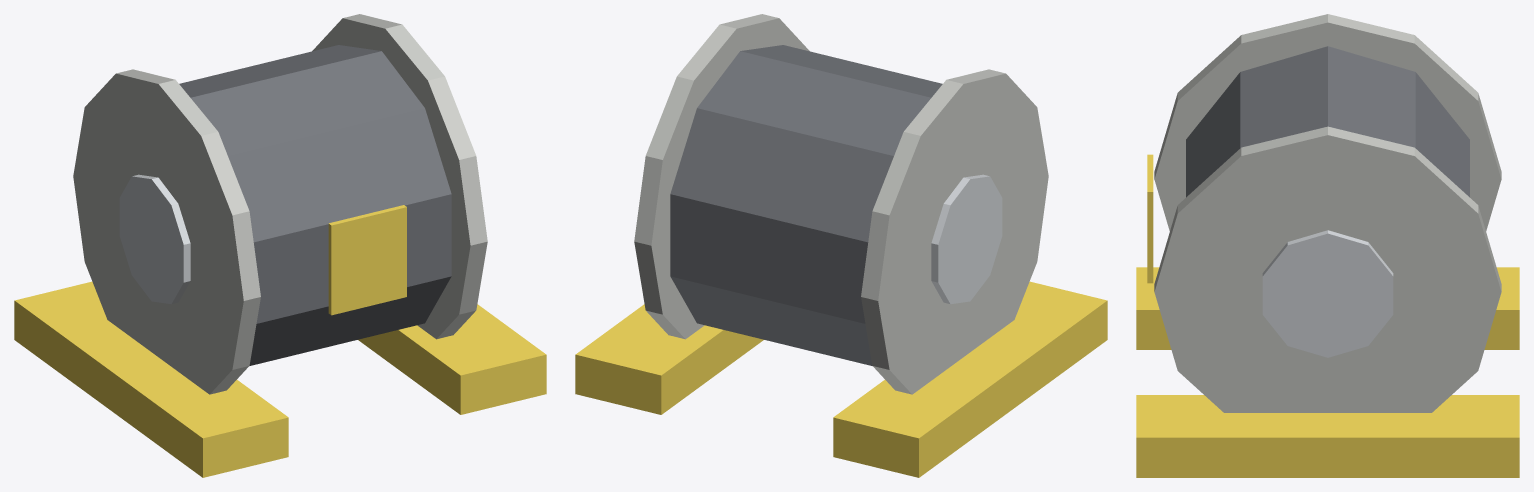
Rendered from wind-and-solar-energy-farm-cable-drum-63a045f0__34081.glb.
3 views of the same model, side by side, from view 1: azimuth 30°, elevation 25°; view 2: azimuth 150°, elevation 25°; view 3: azimuth 270°, elevation 25° (orthographic).
Parts seen in each view (by area): view 1: drum/charcoal, drum/grey, cable-drum, drum/steel; view 2: drum/charcoal, drum/grey, cable-drum, drum/steel; view 3: drum/grey, cable-drum, drum/charcoal, drum/steel.
Boxes of the visible parts, x1,y1,x2,y2 form: drum/charcoal: [179, 45, 451, 365]; drum/grey: [73, 14, 487, 394]; cable-drum: [14, 205, 546, 477]; drum/steel: [119, 174, 190, 304]; drum/charcoal: [670, 45, 942, 365]; drum/grey: [634, 14, 1048, 394]; cable-drum: [575, 281, 1107, 477]; drum/steel: [931, 174, 1002, 304]; drum/grey: [1154, 14, 1501, 412]; cable-drum: [1136, 154, 1519, 477]; drum/charcoal: [1186, 46, 1469, 197]; drum/steel: [1262, 230, 1393, 357].
Size of the model in its own units: 2 by 1.74 by 1.9.
